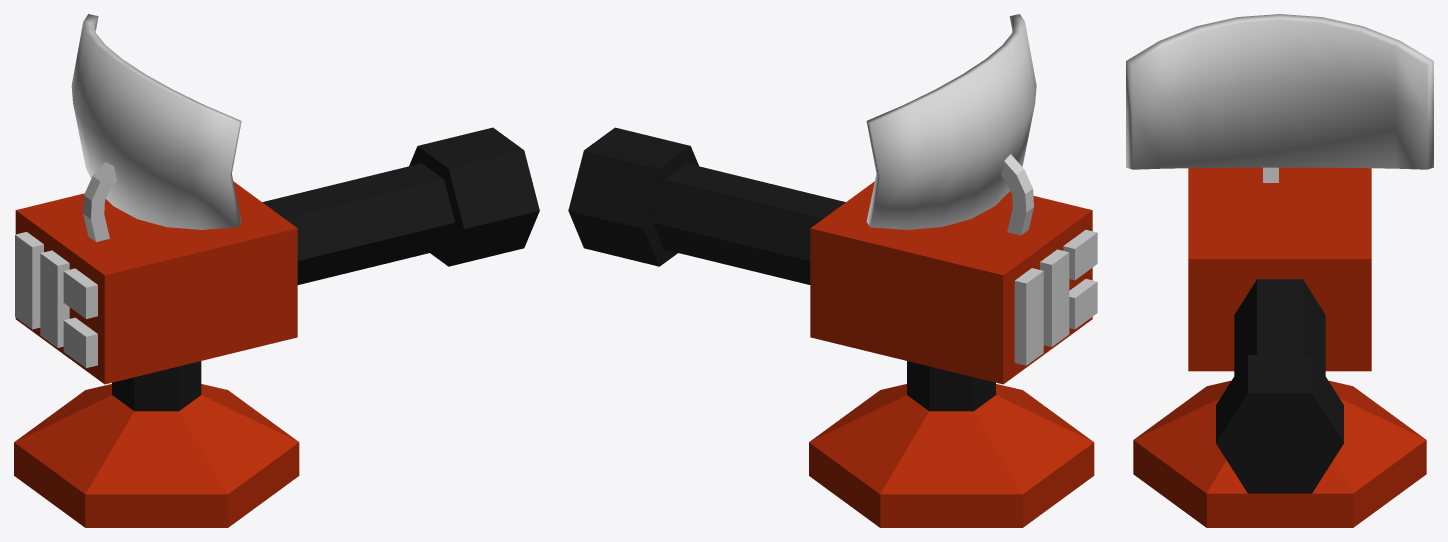
The model's file is Turret.fbx.
3 views of the same model, side by side, from view 1: azimuth 30°, elevation 25°; view 2: azimuth 150°, elevation 25°; view 3: azimuth 270°, elevation 25° (orthographic). The views are drawn at different scales.
Parts seen in each view (by area): view 1: Turret, Base; view 2: Turret, Base; view 3: Turret, Base.
Part boxes in pixels (bbox=[...]): Turret: bbox=[15, 14, 539, 384]; Base: bbox=[14, 361, 299, 527]; Turret: bbox=[568, 14, 1097, 384]; Base: bbox=[809, 361, 1094, 527]; Turret: bbox=[1126, 14, 1433, 493]; Base: bbox=[1133, 380, 1426, 527].
Size of the model in its own units: 238 by 211 by 134.
